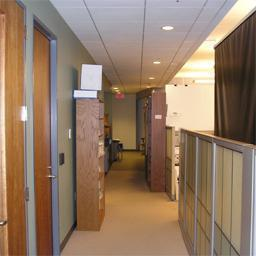Puerta: (2, 9, 26, 254), (32, 19, 56, 254)
